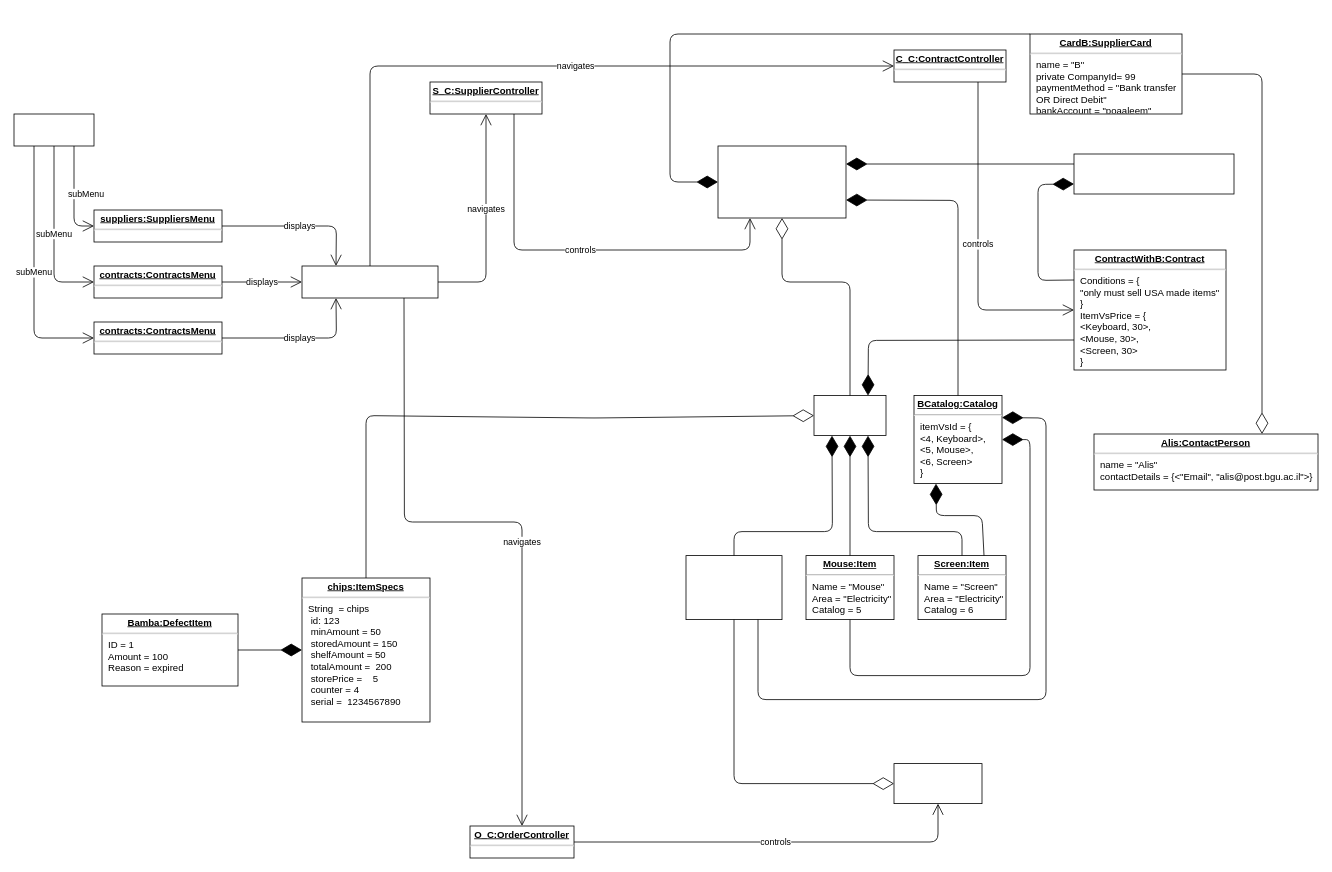
This 1332x872 diagram has some shape labels left out. Each missing label, with the centre of its shape:
B:ByselfSupplier: pixel 781 181
Bug:Company id = 99: pixel 849 415
Keyboard:Item Name = "Keyboard" Area = "Electricity" Catalog = 4: pixel 733 587
main:MainMenu: pixel 53 129
Navigator:ApplicationFacade: pixel 369 281
orderFromB:Order Date = 27/03/2021: pixel 937 783
ProtocolWithB:SupplierProtocol PermenantDays = false: pixel 1153 173
